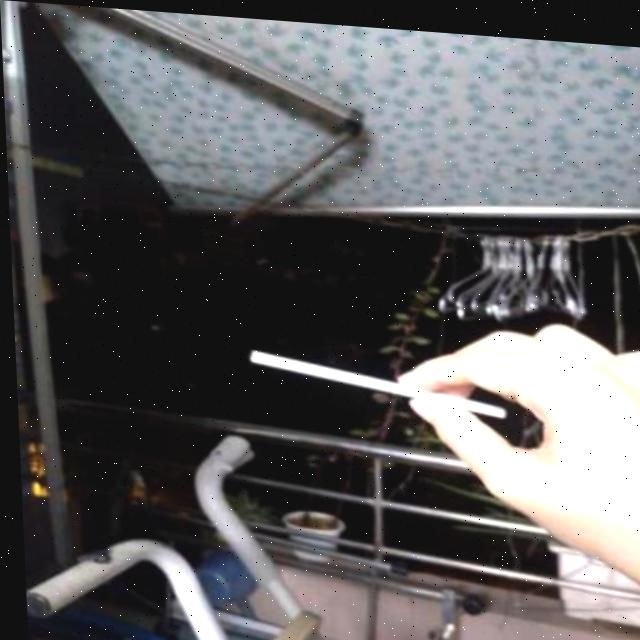cigarette: (241, 344, 507, 416)
